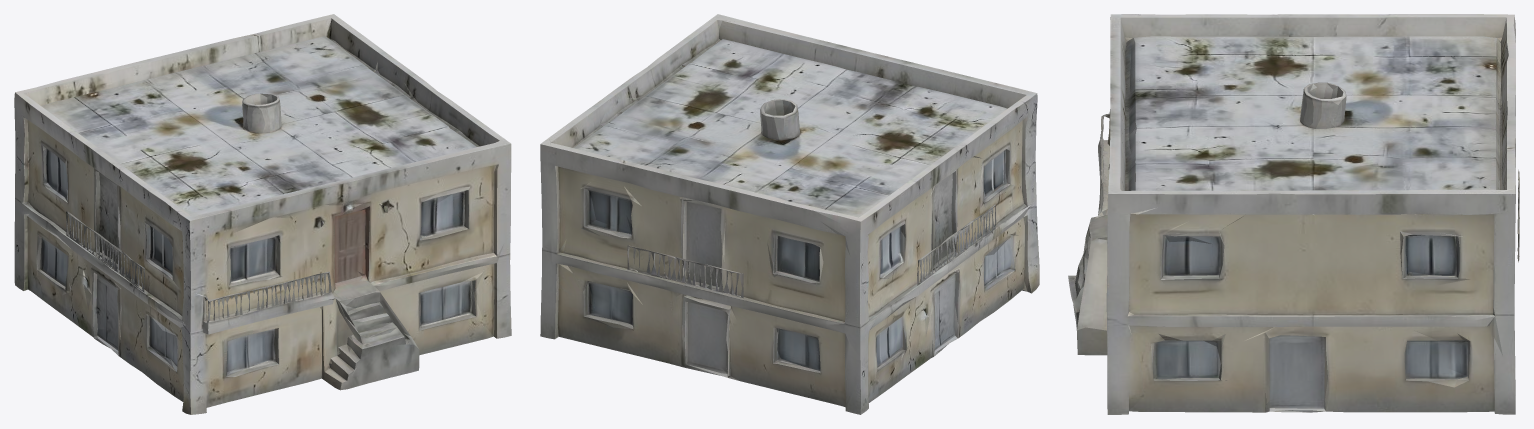
Rendered from house_2f.glb.
The picture shows the model from 3 angles, left to right: view 1: azimuth 30°, elevation 25°; view 2: azimuth 150°, elevation 25°; view 3: azimuth 270°, elevation 25°; orthographic projection. The views are drawn at different scales.
Visible parts, largest first — view 1: Mesh; view 2: Mesh; view 3: Mesh.
Boxes of the visible parts, bbox=[...] form: Mesh: bbox=[14, 14, 511, 414]; Mesh: bbox=[540, 14, 1039, 414]; Mesh: bbox=[1068, 14, 1519, 414].
Size of the model in its own units: 11.28 by 7 by 11.88.
Materials: 1 (1 with a texture image).
